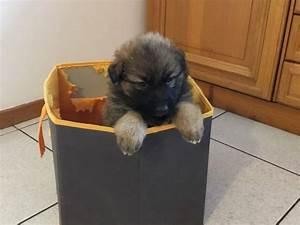dog: (102, 30, 205, 156)
